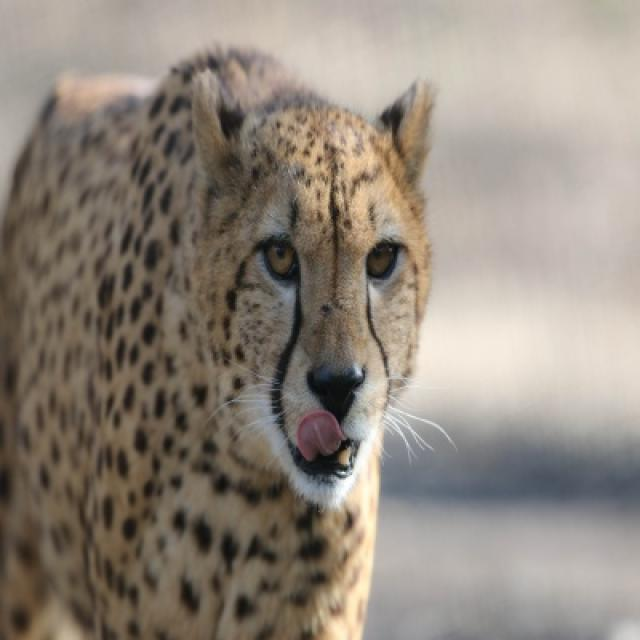Cheetah: (0, 45, 437, 638)
